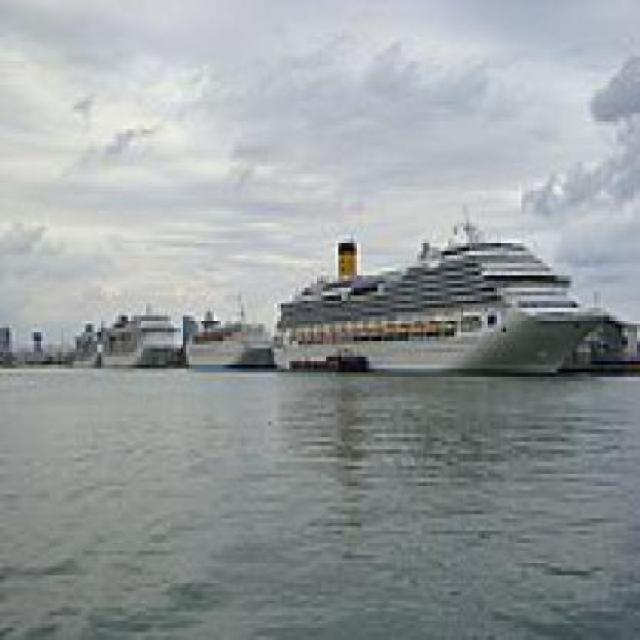cruise: (266, 220, 605, 391)
